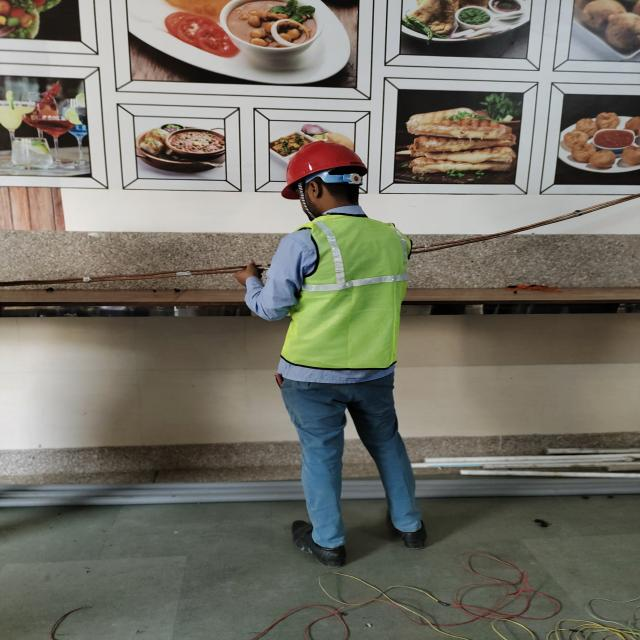safe: (259, 142, 411, 564)
